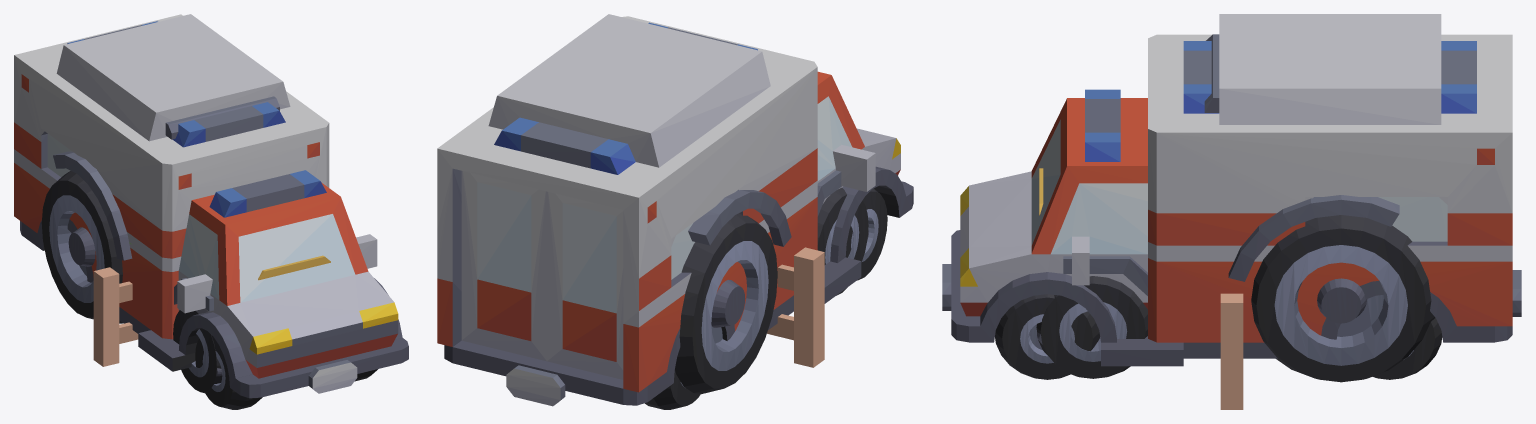
File: country.glb
3 views of the same model, side by side, from view 1: azimuth 30°, elevation 25°; view 2: azimuth 150°, elevation 25°; view 3: azimuth 270°, elevation 25° (orthographic). The views are drawn at different scales.
Visible parts, largest first — view 1: ambulance, tractor, fence; view 2: ambulance, tractor, fence; view 3: ambulance, tractor, fence.
Part boxes in pixels (left/top/right/bottom): ambulance: left=14, top=14, right=408, bottom=409; tractor: left=41, top=96, right=330, bottom=393; fence: left=93, top=267, right=138, bottom=366; ambulance: left=437, top=14, right=913, bottom=409; tractor: left=675, top=170, right=868, bottom=394; fence: left=767, top=247, right=824, bottom=367; ambulance: left=942, top=14, right=1521, bottom=379; tractor: left=1036, top=34, right=1435, bottom=382; fence: left=1220, top=293, right=1243, bottom=409.
Size of the model in its own units: 3 by 2.99 by 5.4.
